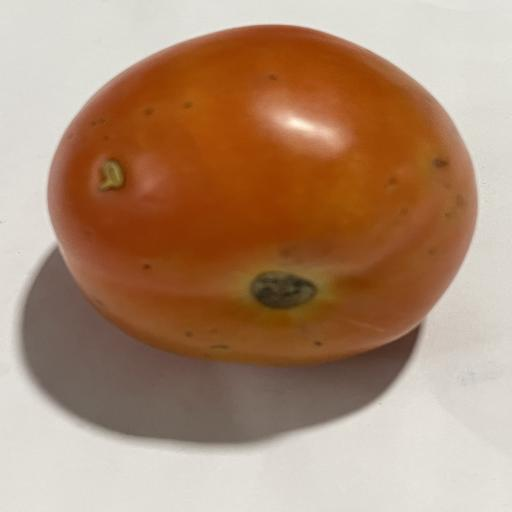unripe: (48, 26, 477, 366)
